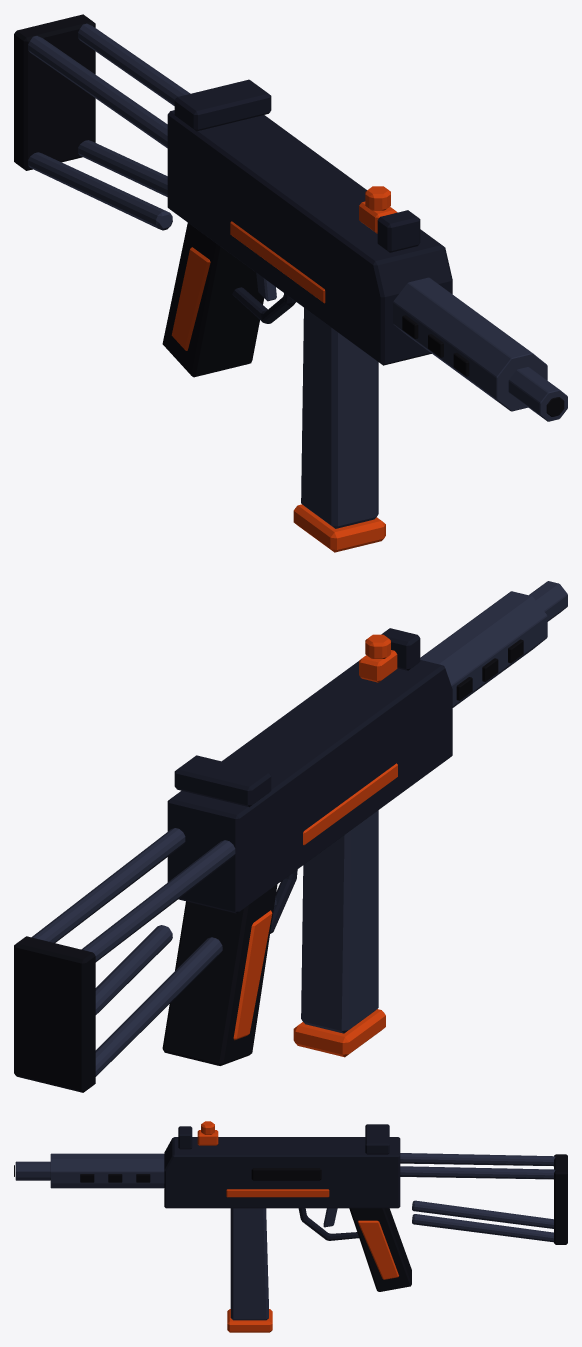
Rendered from myw_smg.obj.
3 views of the same model, one above another, from view 1: azimuth 30°, elevation 25°; view 2: azimuth 150°, elevation 25°; view 3: azimuth 270°, elevation 25° (orthographic). The views are drawn at different scales.
Parts seen in each view (by area): view 1: Body, Stock, Mag, Barrel, Bolt; view 2: Body, Stock, Mag, Barrel, Bolt; view 3: Body, Stock, Mag, Barrel, Bolt.
Part boxes in pixels (<box>): Body: <box>162,79,452,377</box>; Stock: <box>14,14,190,230</box>; Mag: <box>293,308,385,552</box>; Barrel: <box>393,277,567,421</box>; Bolt: <box>359,186,397,233</box>; Body: <box>162,628,452,1065</box>; Stock: <box>14,828,235,1092</box>; Mag: <box>293,810,385,1057</box>; Barrel: <box>420,581,567,707</box>; Bolt: <box>359,634,397,682</box>; Body: <box>164,1124,411,1291</box>; Stock: <box>400,1153,567,1244</box>; Mag: <box>227,1208,272,1332</box>; Barrel: <box>14,1153,164,1188</box>; Bolt: <box>197,1121,218,1145</box>.
Size of the model in its own units: 0.281 by 1.28 by 3.17.
